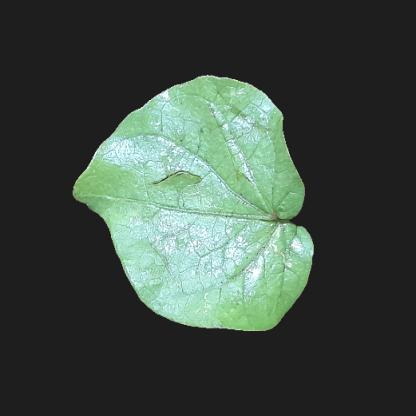healthy: (144, 111, 278, 293), (103, 143, 152, 224)
